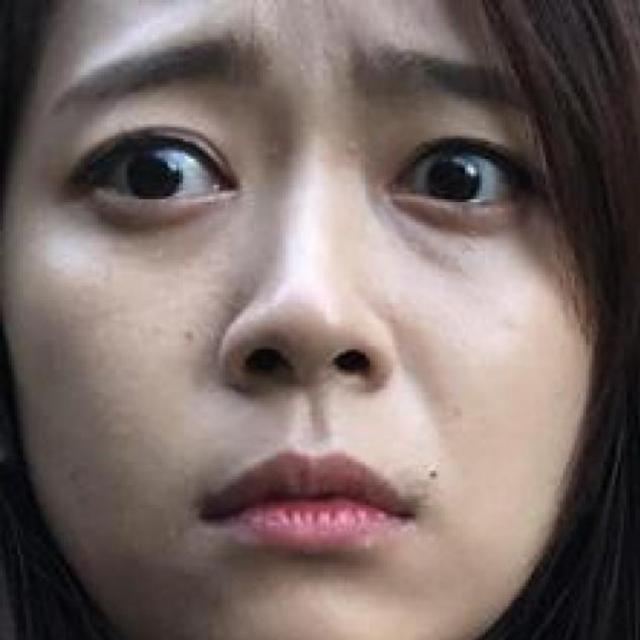Surprised: (20, 18, 620, 635)
